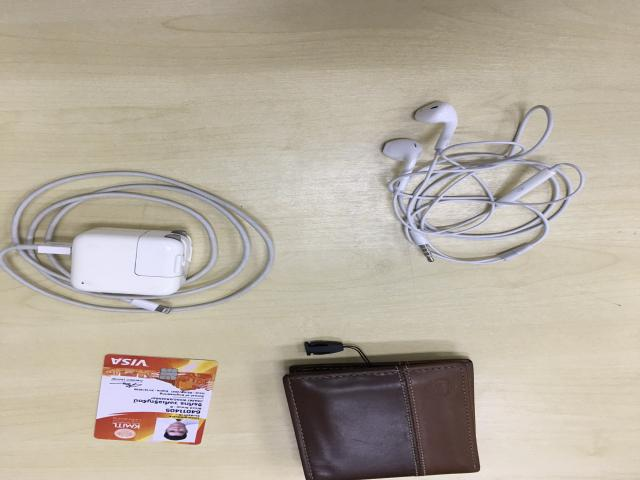Wallet: (281, 356, 482, 480)
wire: (0, 171, 274, 317), (381, 102, 585, 263)
